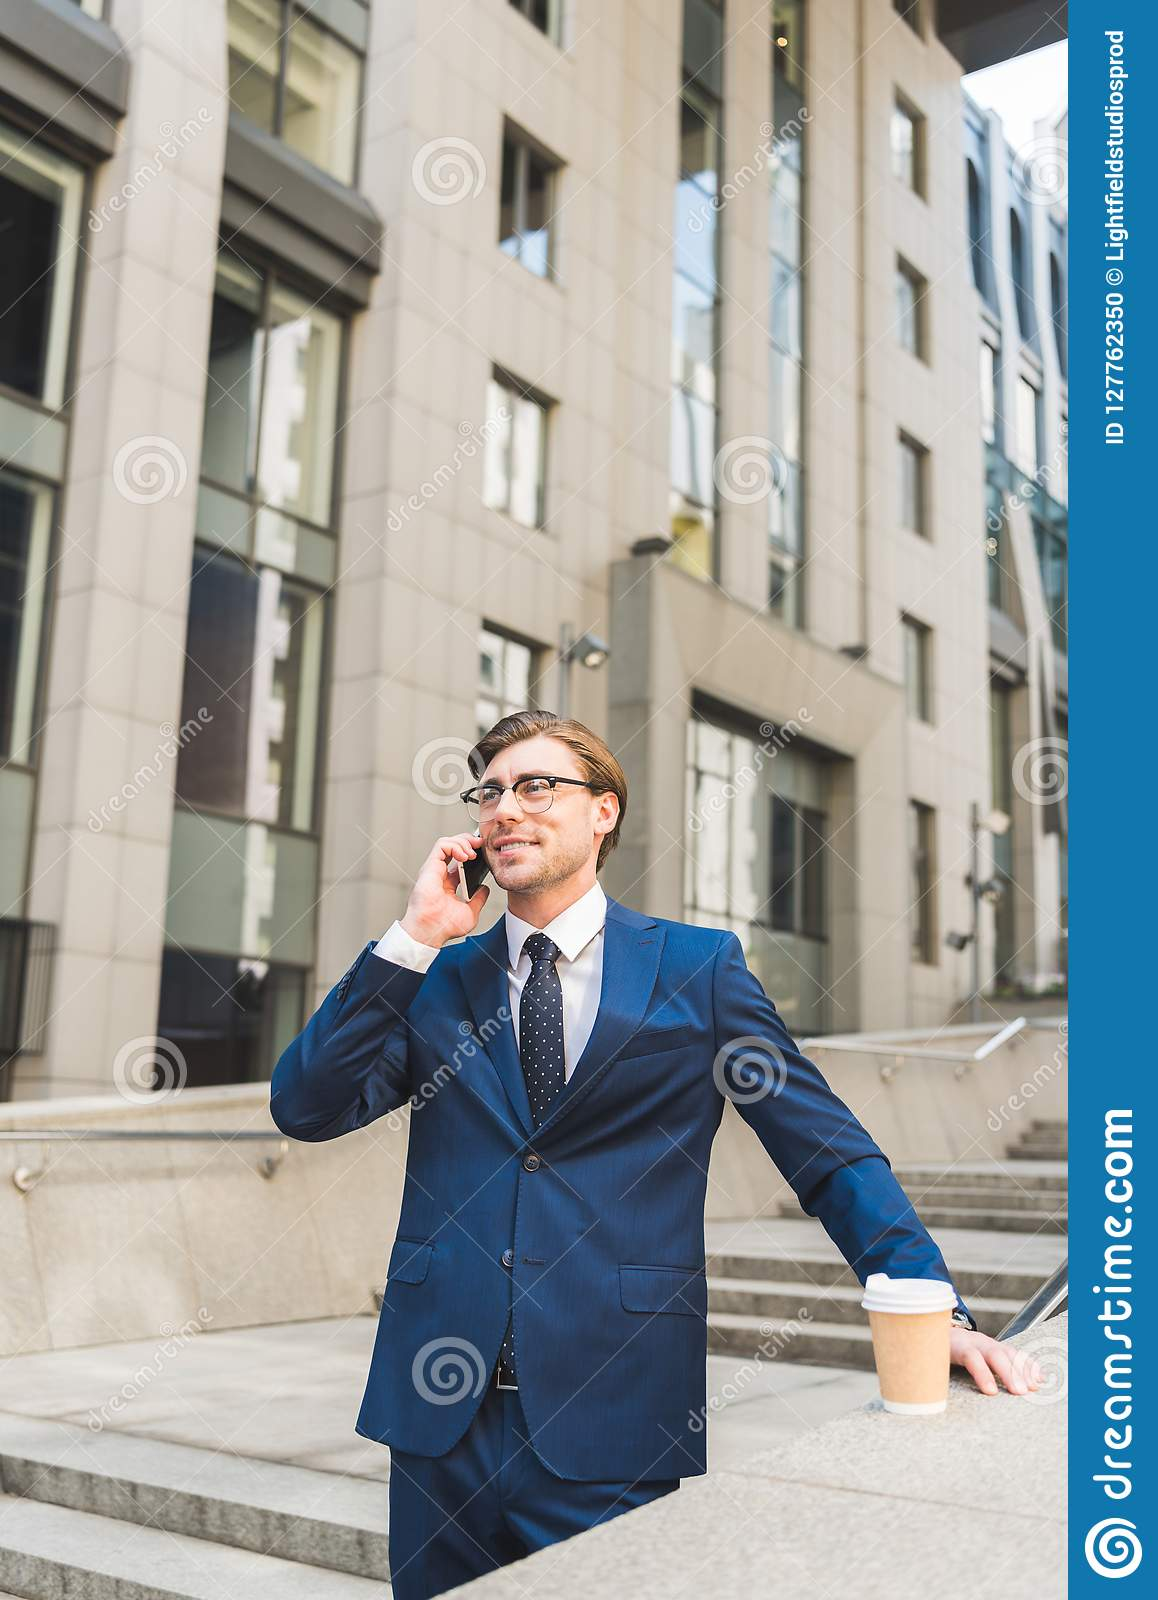phone: (456, 825, 490, 903)
talk: (410, 766, 579, 937)
